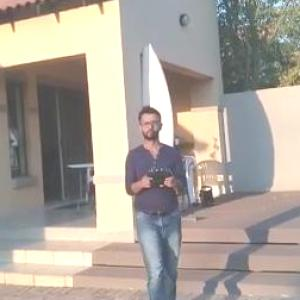follow: (120, 99, 194, 299)
